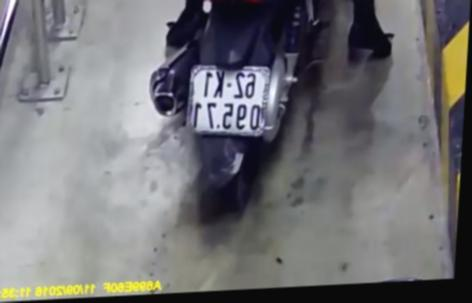License_Plate: (177, 58, 282, 141)
